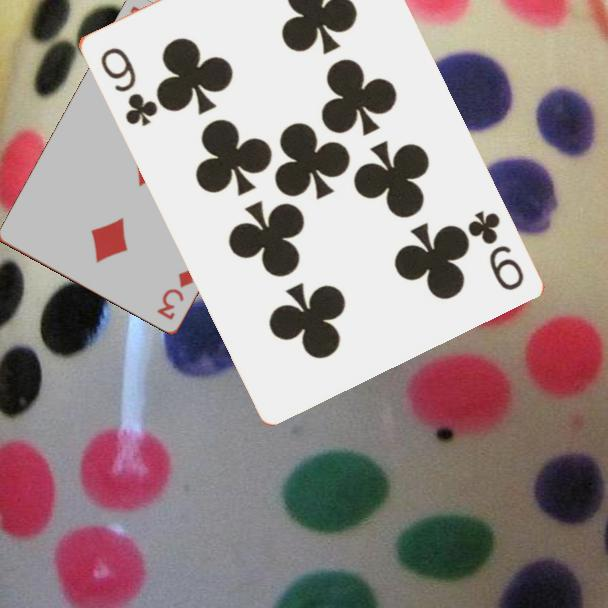c09: (463, 206, 527, 294), (96, 43, 160, 129)
d03: (153, 266, 197, 323)
